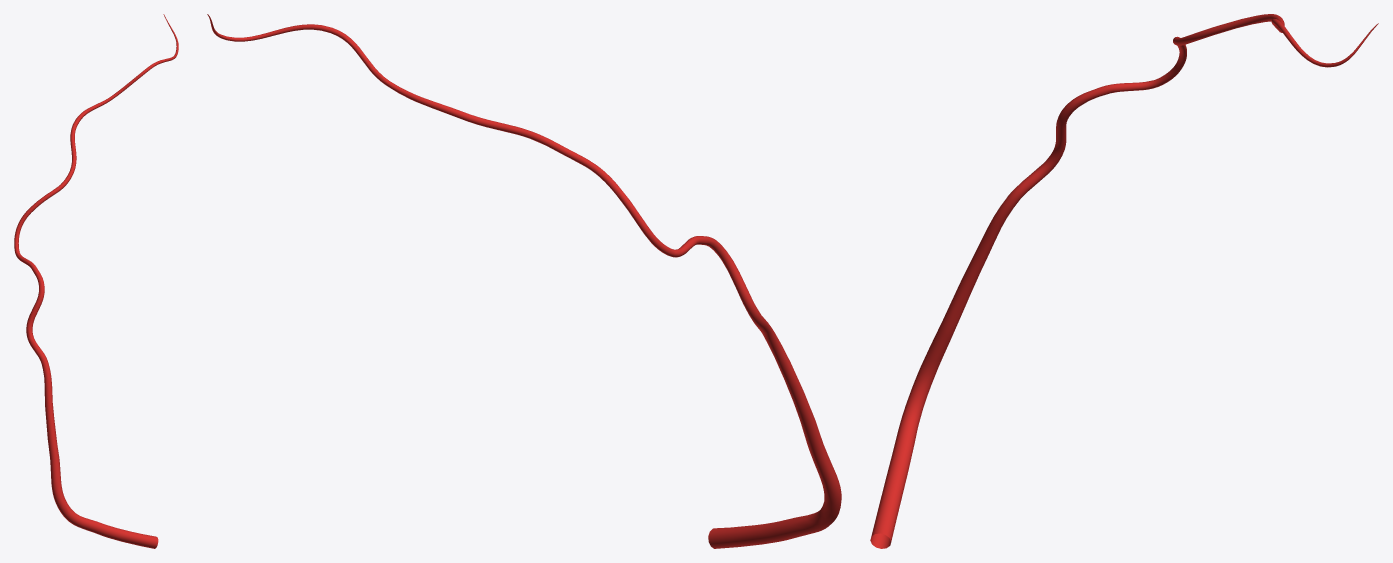
File: circulatorio-artery-of-central-sulcus-r.glb
The picture shows the model from 3 angles, left to right: view 1: azimuth 30°, elevation 25°; view 2: azimuth 150°, elevation 25°; view 3: azimuth 270°, elevation 25°; orthographic projection. The views are drawn at different scales.
Parts seen in each view (by area): view 1: Artery of central sulcus.r; view 2: Artery of central sulcus.r; view 3: Artery of central sulcus.r.
Boxes of the visible parts, x1=… form: Artery of central sulcus.r: x1=14, y1=14, x2=178, y2=548; Artery of central sulcus.r: x1=207, y1=14, x2=841, y2=548; Artery of central sulcus.r: x1=870, y1=14, x2=1378, y2=548.
Size of the model in its own units: 0.0497 by 0.0744 by 0.0523.
